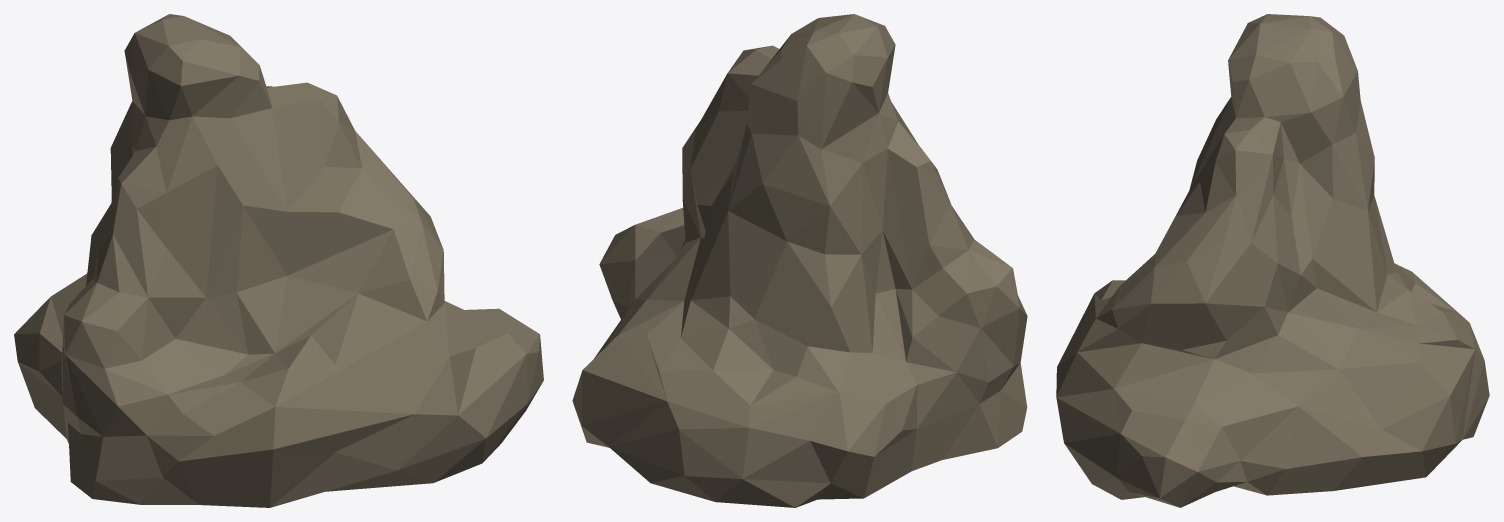
The model's file is LargeRock_2.fbx.
3 views of the same model, side by side, from view 1: azimuth 30°, elevation 25°; view 2: azimuth 150°, elevation 25°; view 3: azimuth 270°, elevation 25° (orthographic). The views are drawn at different scales.
Visible parts, largest first — view 1: LargeRock_2; view 2: LargeRock_2; view 3: LargeRock_2.
Boxes of the visible parts, x1=… form: LargeRock_2: x1=14, y1=14, x2=543, y2=507; LargeRock_2: x1=572, y1=14, x2=1027, y2=507; LargeRock_2: x1=1056, y1=14, x2=1489, y2=507.
Size of the model in its own units: 247 by 219 by 228.
